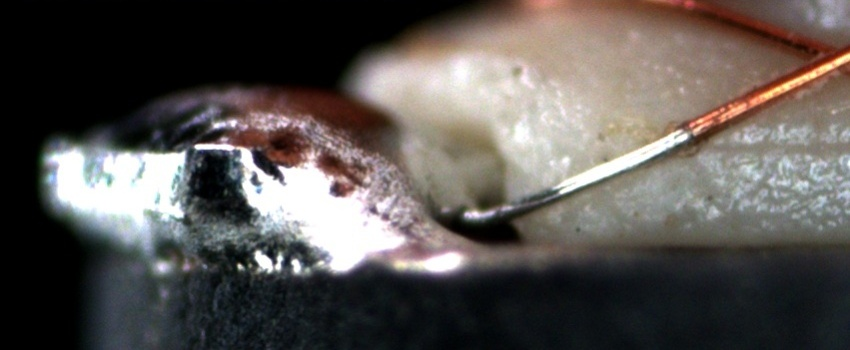CL: (786, 23, 845, 89)
DL: (700, 114, 849, 173)
TS: (451, 127, 696, 222)
